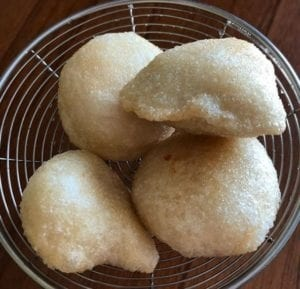pempek: (20, 29, 287, 275)
